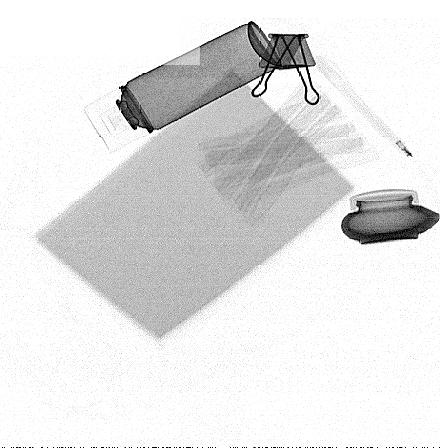Sprayer: (85, 20, 283, 153)
